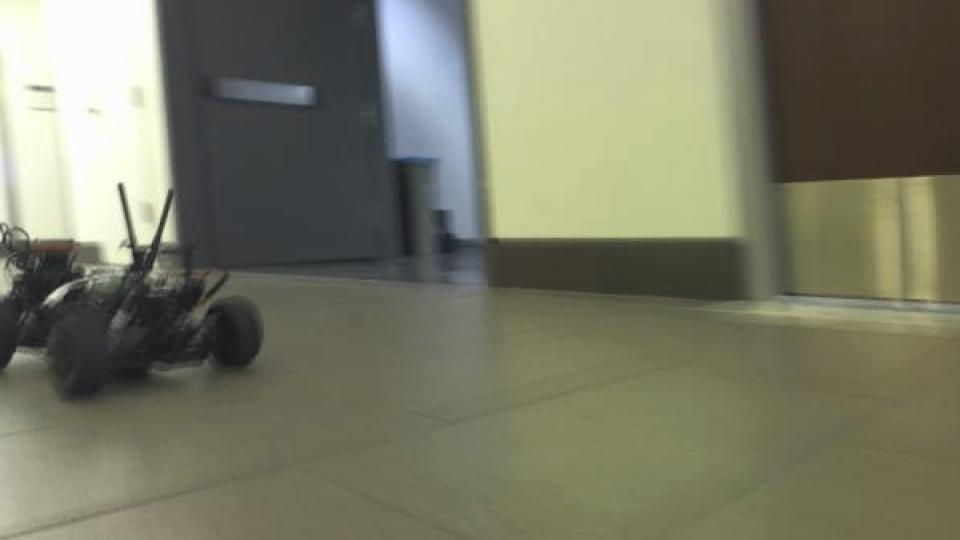car: (0, 180, 269, 402)
